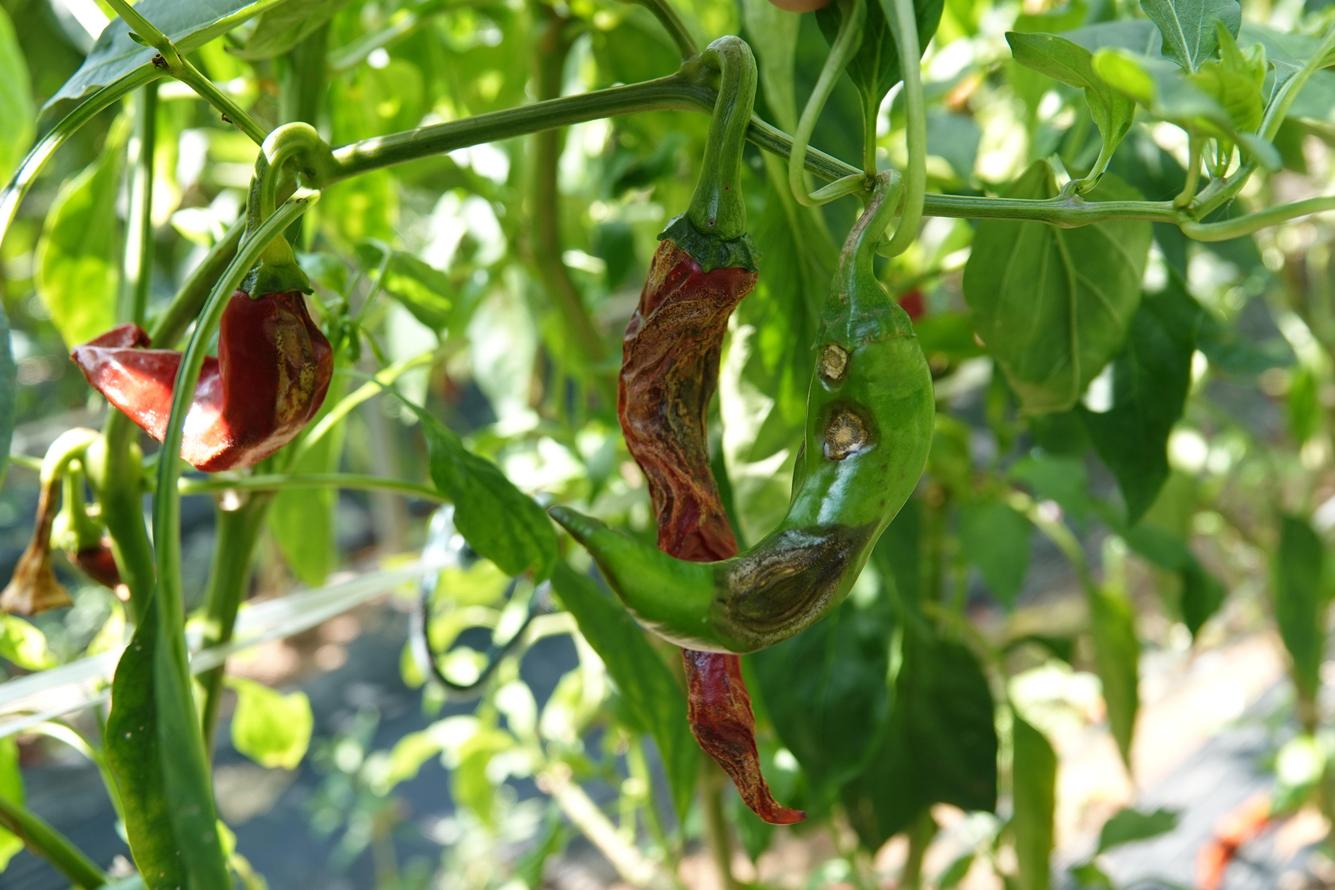Busuk Buah Antraknosa: (534, 257, 945, 654), (605, 213, 821, 846), (71, 255, 335, 474)
